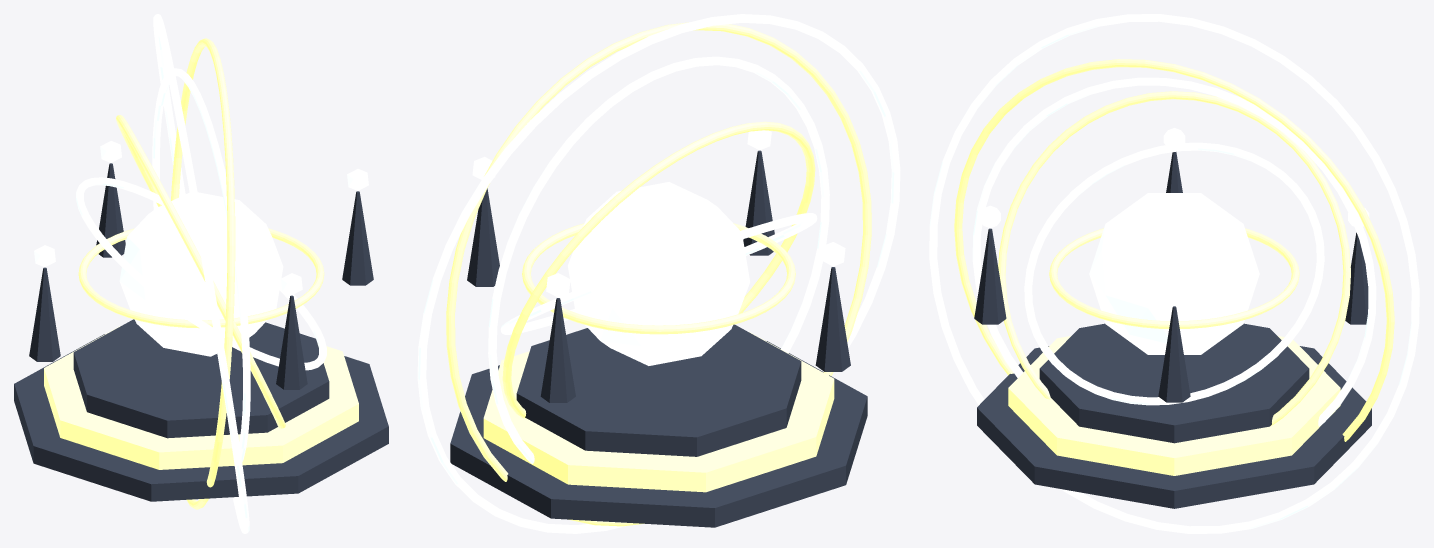
The model's file is gpu-blender-v35.glb.
3 renders of one model, left to right at view 1: azimuth 30°, elevation 25°; view 2: azimuth 150°, elevation 25°; view 3: azimuth 270°, elevation 25°, orthographic. The views are drawn at different scales.
Visible parts, largest first — view 1: Cylinder.002, Cylinder, SovereignCore_neal-bliki, Cylinder.001, Torus.005, Torus.004, Torus.003, Torus.001, Torus, Torus.002, Cone, Cone.003 (+2 smaller); view 2: Cylinder.002, SovereignCore_neal-bliki, Cylinder, Cylinder.001, Torus.005, Torus.004, Torus.003, Torus.002, Torus, Torus.001, Cone.002, Cone.001 (+2 smaller); view 3: SovereignCore_neal-bliki, Cylinder.002, Cylinder, Cylinder.001, Torus.005, Torus.004, Torus.001, Torus.002, Torus.003, Torus, Cone, Cone.003 (+1 smaller).
Part boxes in pixels (bbox=[...]): Cylinder.002: bbox=[73, 319, 329, 438]; Cylinder: bbox=[14, 334, 388, 501]; SovereignCore_neal-bliki: bbox=[119, 192, 283, 356]; Cylinder.001: bbox=[44, 326, 358, 469]; Torus.005: bbox=[153, 14, 249, 533]; Torus.004: bbox=[171, 38, 235, 509]; Torus.003: bbox=[152, 68, 250, 461]; Torus.001: bbox=[76, 177, 326, 370]; Torus: bbox=[78, 228, 324, 328]; Torus.002: bbox=[116, 115, 285, 428]; Cone: bbox=[342, 191, 373, 285]; Cone.003: bbox=[276, 295, 307, 389]; Cylinder.002: bbox=[516, 324, 801, 456]; SovereignCore_neal-bliki: bbox=[568, 182, 749, 365]; Cylinder: bbox=[450, 341, 867, 527]; Cylinder.001: bbox=[483, 332, 834, 492]; Torus.005: bbox=[417, 14, 900, 533]; Torus.004: bbox=[446, 22, 871, 526]; Torus.003: bbox=[488, 56, 829, 463]; Torus.002: bbox=[502, 121, 815, 418]; Torus: bbox=[522, 223, 795, 334]; Torus.001: bbox=[500, 213, 817, 334]; Cone.002: bbox=[815, 267, 850, 371]; Cone.001: bbox=[540, 298, 575, 402]; SovereignCore_neal-bliki: bbox=[1089, 193, 1259, 354]; Cylinder.002: bbox=[1039, 323, 1309, 443]; Cylinder: bbox=[977, 346, 1371, 508]; Cylinder.001: bbox=[1008, 336, 1340, 475]; Torus.005: bbox=[929, 14, 1419, 533]; Torus.004: bbox=[954, 59, 1394, 441]; Torus.001: bbox=[1024, 142, 1324, 405]; Torus.002: bbox=[998, 91, 1350, 425]; Torus.003: bbox=[972, 77, 1376, 426]; Torus: bbox=[1049, 228, 1299, 328]; Cone: bbox=[1158, 306, 1190, 402]; Cone.003: bbox=[974, 228, 1006, 324].
Size of the model in its own units: 4.41 by 5.93 by 5.46.
